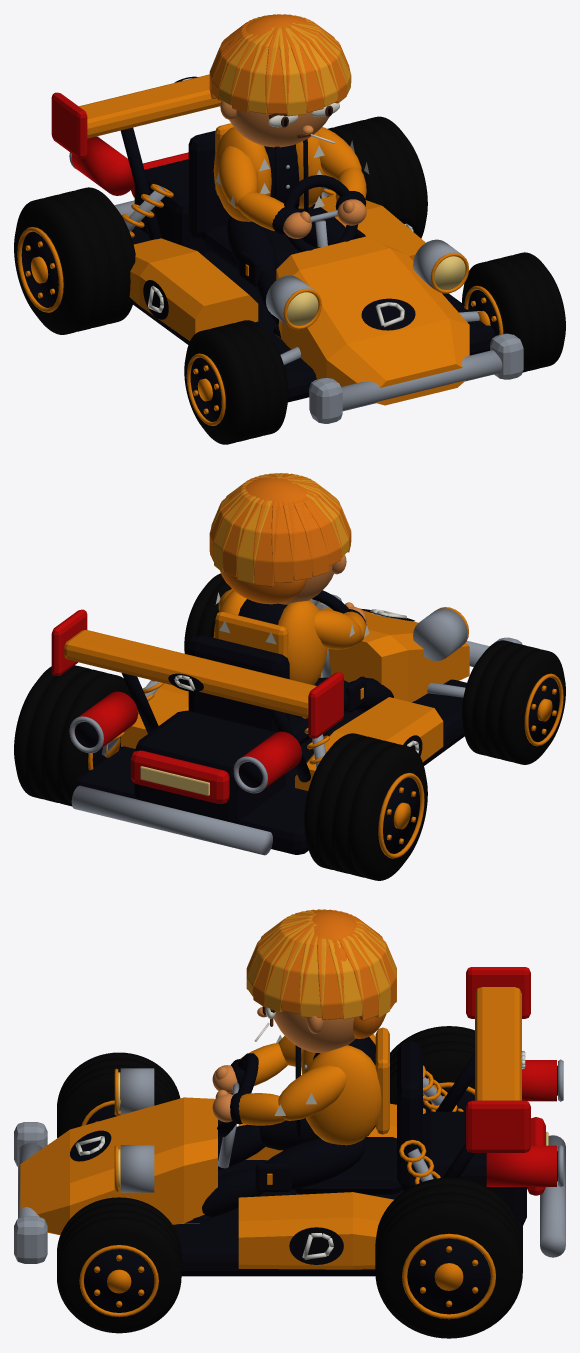
Rendered from JustSamDriving.glb.
3 renders of one model, top to bottom at view 1: azimuth 30°, elevation 25°; view 2: azimuth 150°, elevation 25°; view 3: azimuth 270°, elevation 25°, orthographic. The views are drawn at different scales.
Parts seen in each view (by area): view 1: CHASSIS, JUSTSAM_SEATED, WHEEL_RL, WHEEL_FL, WHEEL_FR, WHEEL_RR; view 2: CHASSIS, JUSTSAM_SEATED, WHEEL_RL, WHEEL_FL, WHEEL_RR, WHEEL_FR; view 3: CHASSIS, JUSTSAM_SEATED, WHEEL_RR, WHEEL_FR, WHEEL_FL, WHEEL_RL.
Part boxes in pixels (x1,y1,x2,y2): CHASSIS: (51, 74, 523, 423); JUSTSAM_SEATED: (209, 14, 369, 338); WHEEL_RL: (14, 187, 135, 334); WHEEL_FL: (184, 320, 288, 444); WHEEL_FR: (462, 252, 565, 372); WHEEL_RR: (320, 116, 427, 238); CHASSIS: (51, 590, 522, 855); JUSTSAM_SEATED: (209, 473, 393, 717); WHEEL_RL: (304, 733, 427, 880); WHEEL_FL: (462, 640, 565, 764); WHEEL_RR: (14, 665, 132, 806); WHEEL_FR: (184, 573, 231, 654); CHASSIS: (14, 967, 565, 1276); JUSTSAM_SEATED: (181, 909, 396, 1223); WHEEL_RR: (375, 1177, 522, 1338); WHEEL_FR: (57, 1197, 181, 1333); WHEEL_FL: (57, 1052, 180, 1137); WHEEL_RL: (390, 1026, 474, 1112).
Bounding box in the file's own units: 1.74 × 1.41 × 2.12.
